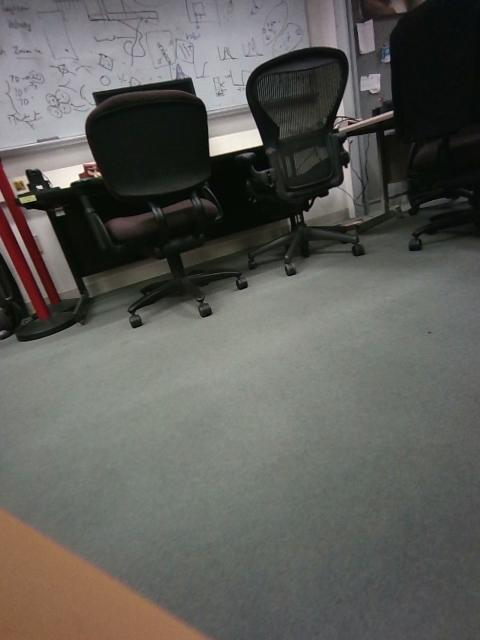block: (348, 299, 396, 376)
